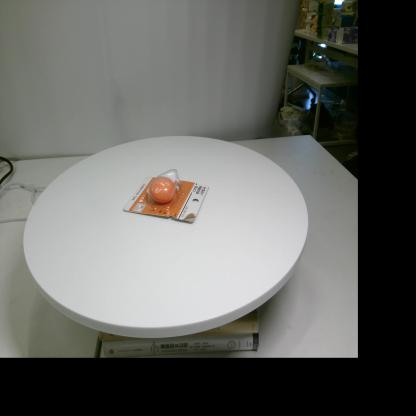Stationery: (123, 169, 209, 222)
